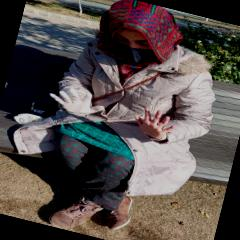gloved: (45, 85, 107, 122)
not-gloved: (129, 106, 179, 144)
